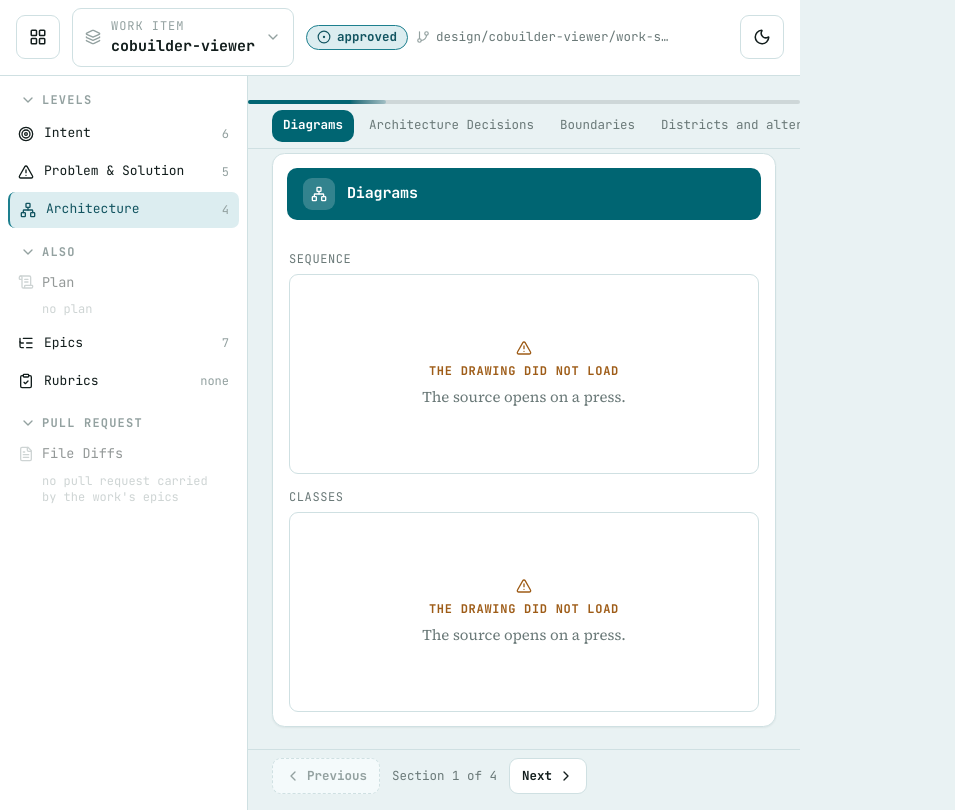
Slice 8 · one index drives the strip, the pager, and the arrow keys › jumps the index when a heading three along is pressed, and writes no address
Check: the element named "Diagrams" is shown, box [272,152,776,726]
Click the link "Districts and alternatives considered" at (800, 125), box [661,116,938,133]
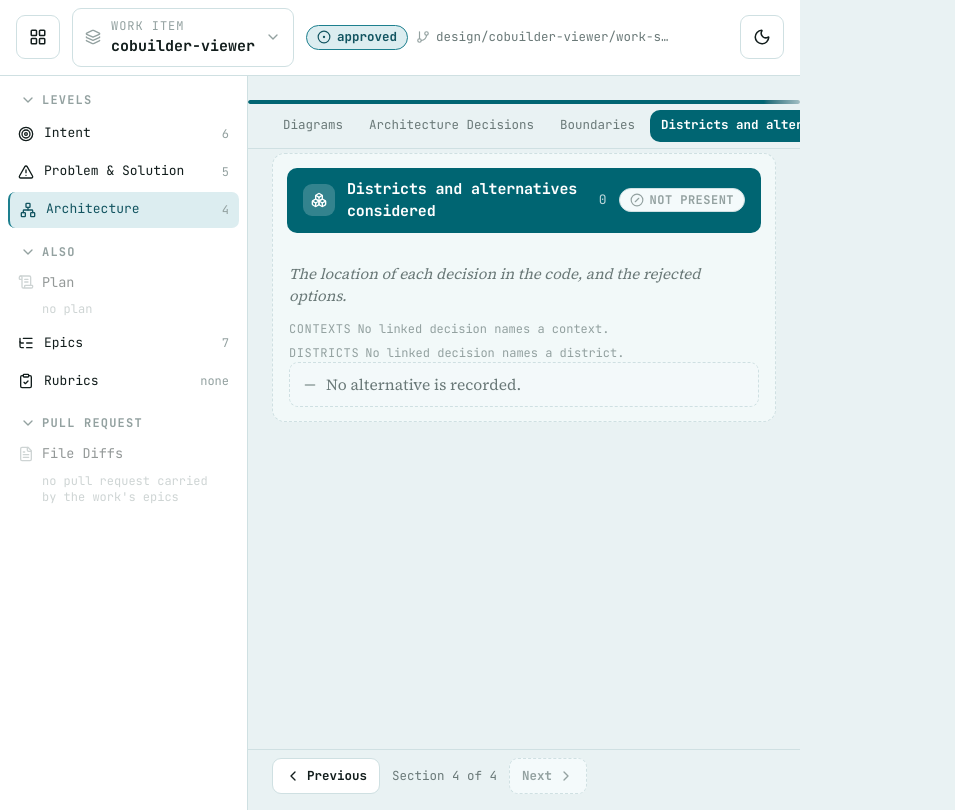
Check: the text "Section 4 of 4" is shown, box [392,767,497,785]
